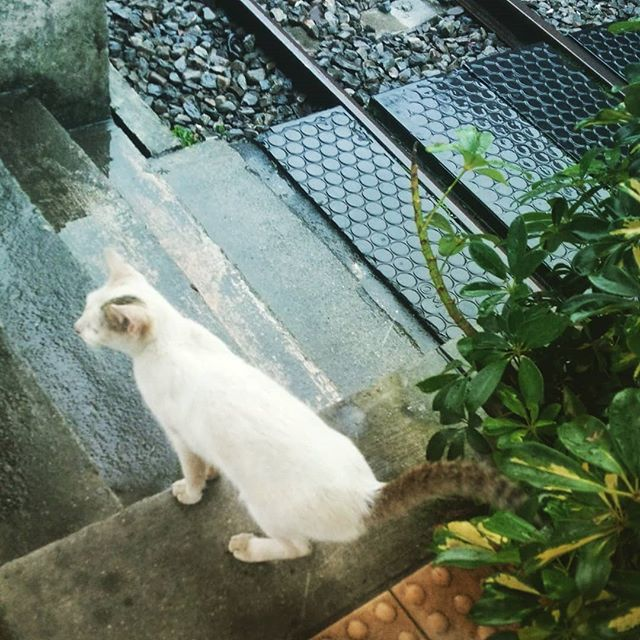animal: (69, 272, 534, 574)
vegetation: (448, 105, 640, 640)
